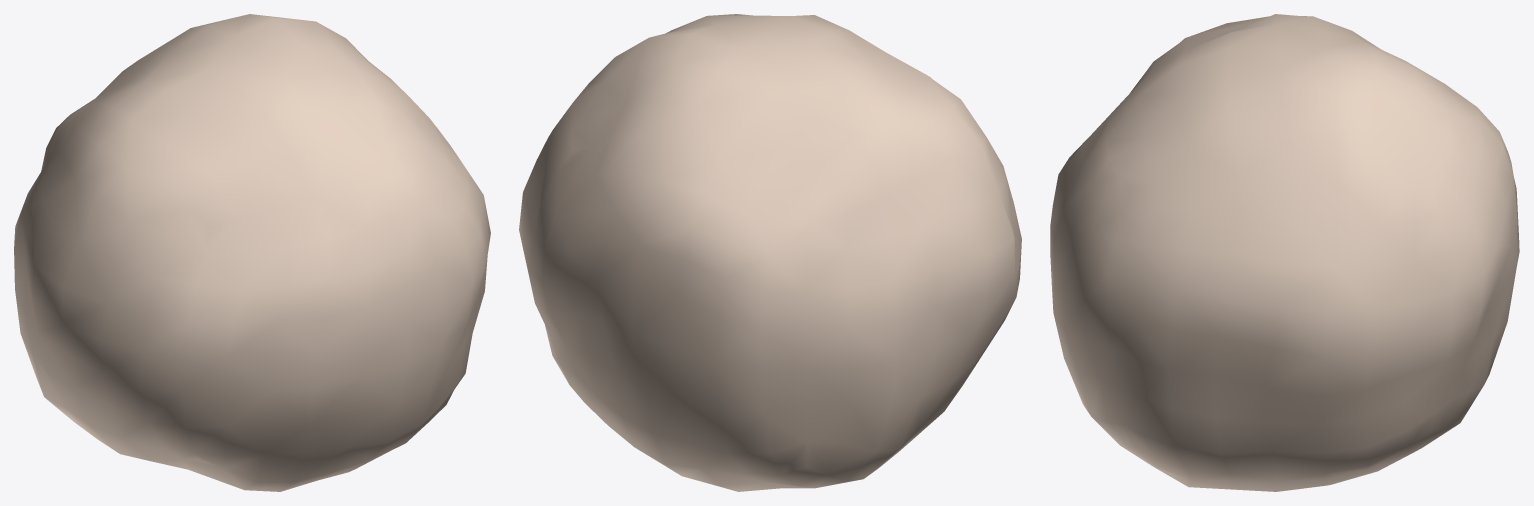
Rendered from synapseLow.fbx.
The picture shows the model from 3 angles, left to right: view 1: azimuth 30°, elevation 25°; view 2: azimuth 150°, elevation 25°; view 3: azimuth 270°, elevation 25°; orthographic projection. The views are drawn at different scales.
Parts seen in each view (by area): view 1: sphere; view 2: sphere; view 3: sphere.
Boxes of the visible parts, bbox=[...] form: sphere: bbox=[14, 14, 490, 491]; sphere: bbox=[519, 14, 1021, 491]; sphere: bbox=[1050, 14, 1519, 491].
Bounding box in the file's own units: 211 × 198 × 196.
